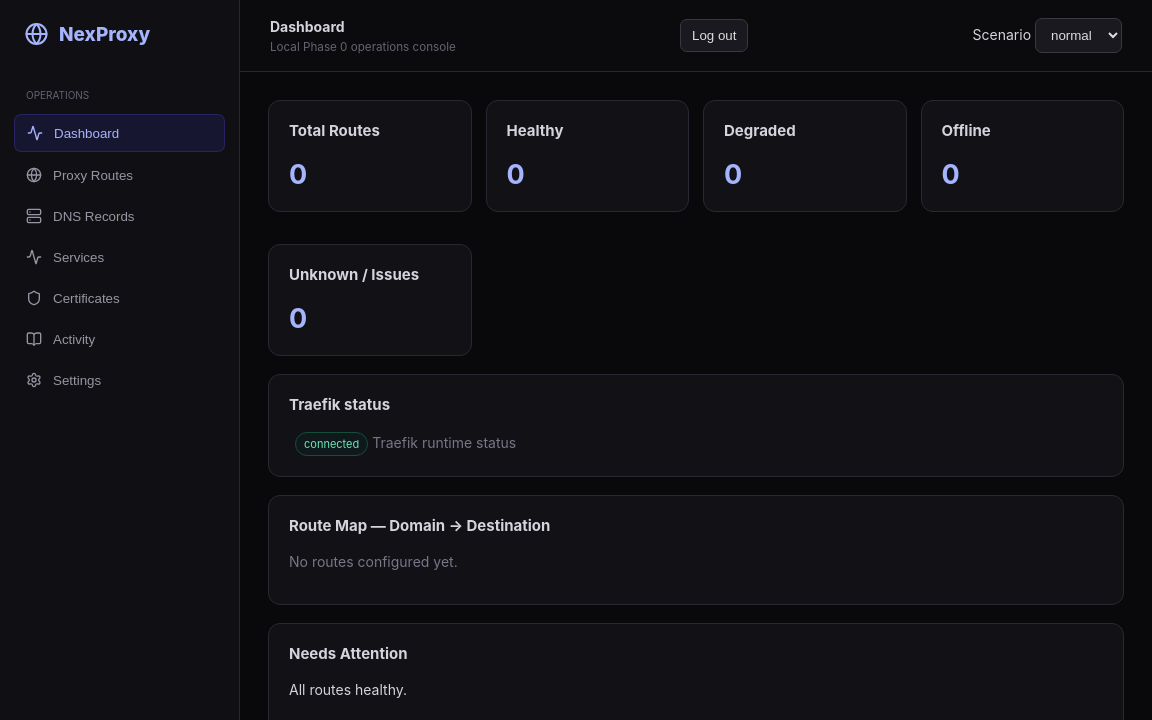
Scenario: Traefik settings › tests through NexProxy and reports connected feedback
The width and height of the screenshot is (1152, 720).
Click the button "Settings" at (120, 380), box left=14, top=362, right=225, bottom=398
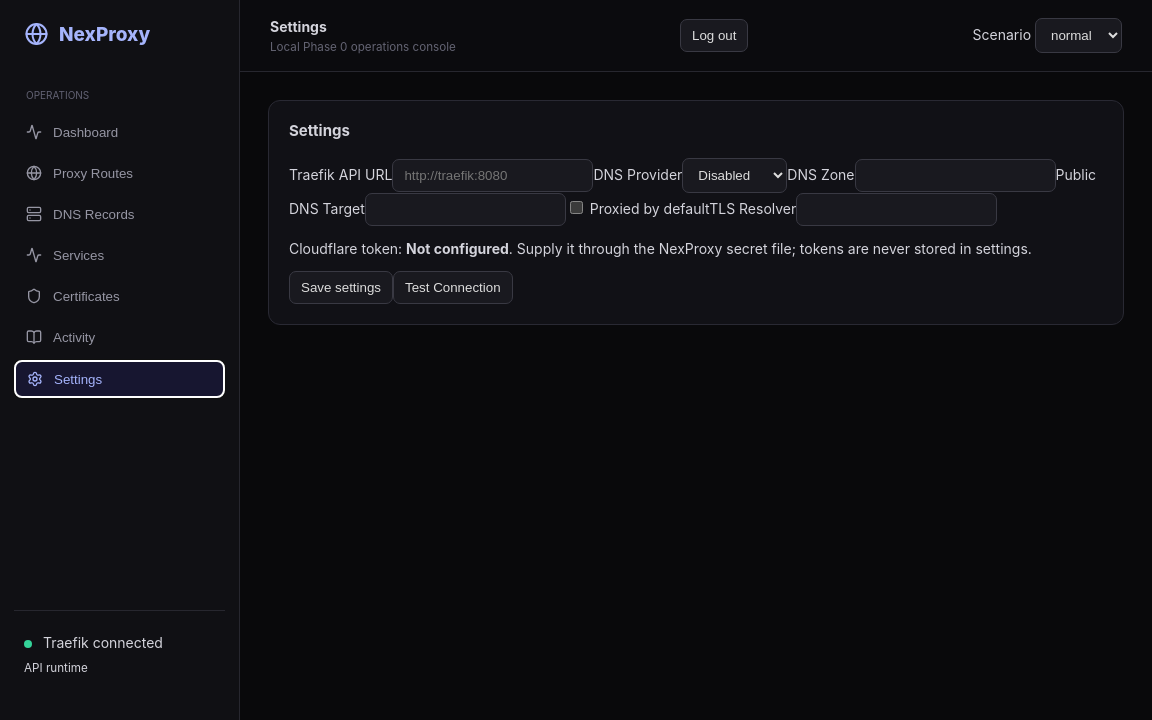
Now the field labelled "Traefik API URL" is shown, box left=392, top=159, right=593, bottom=192
Click the button "Test Connection" at (453, 288), box left=393, top=271, right=513, bottom=304
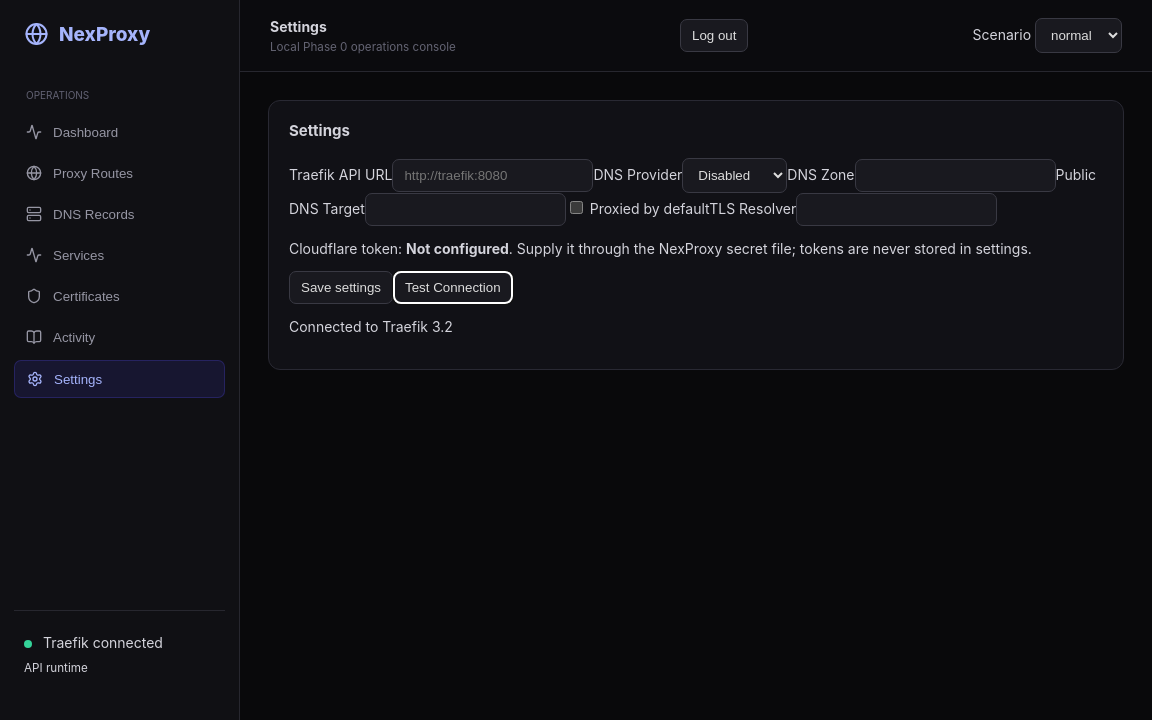
Now the text "Connected to Traefik 3.2" is shown, box left=289, top=318, right=453, bottom=335
